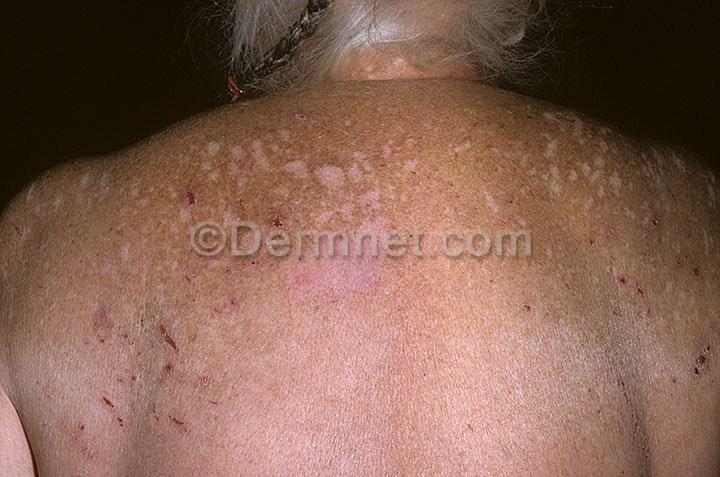Eczema: (244, 267, 474, 435), (42, 282, 219, 455), (293, 95, 456, 226), (481, 115, 635, 228), (520, 232, 631, 377), (632, 153, 720, 333), (143, 148, 291, 228), (663, 329, 720, 437)
